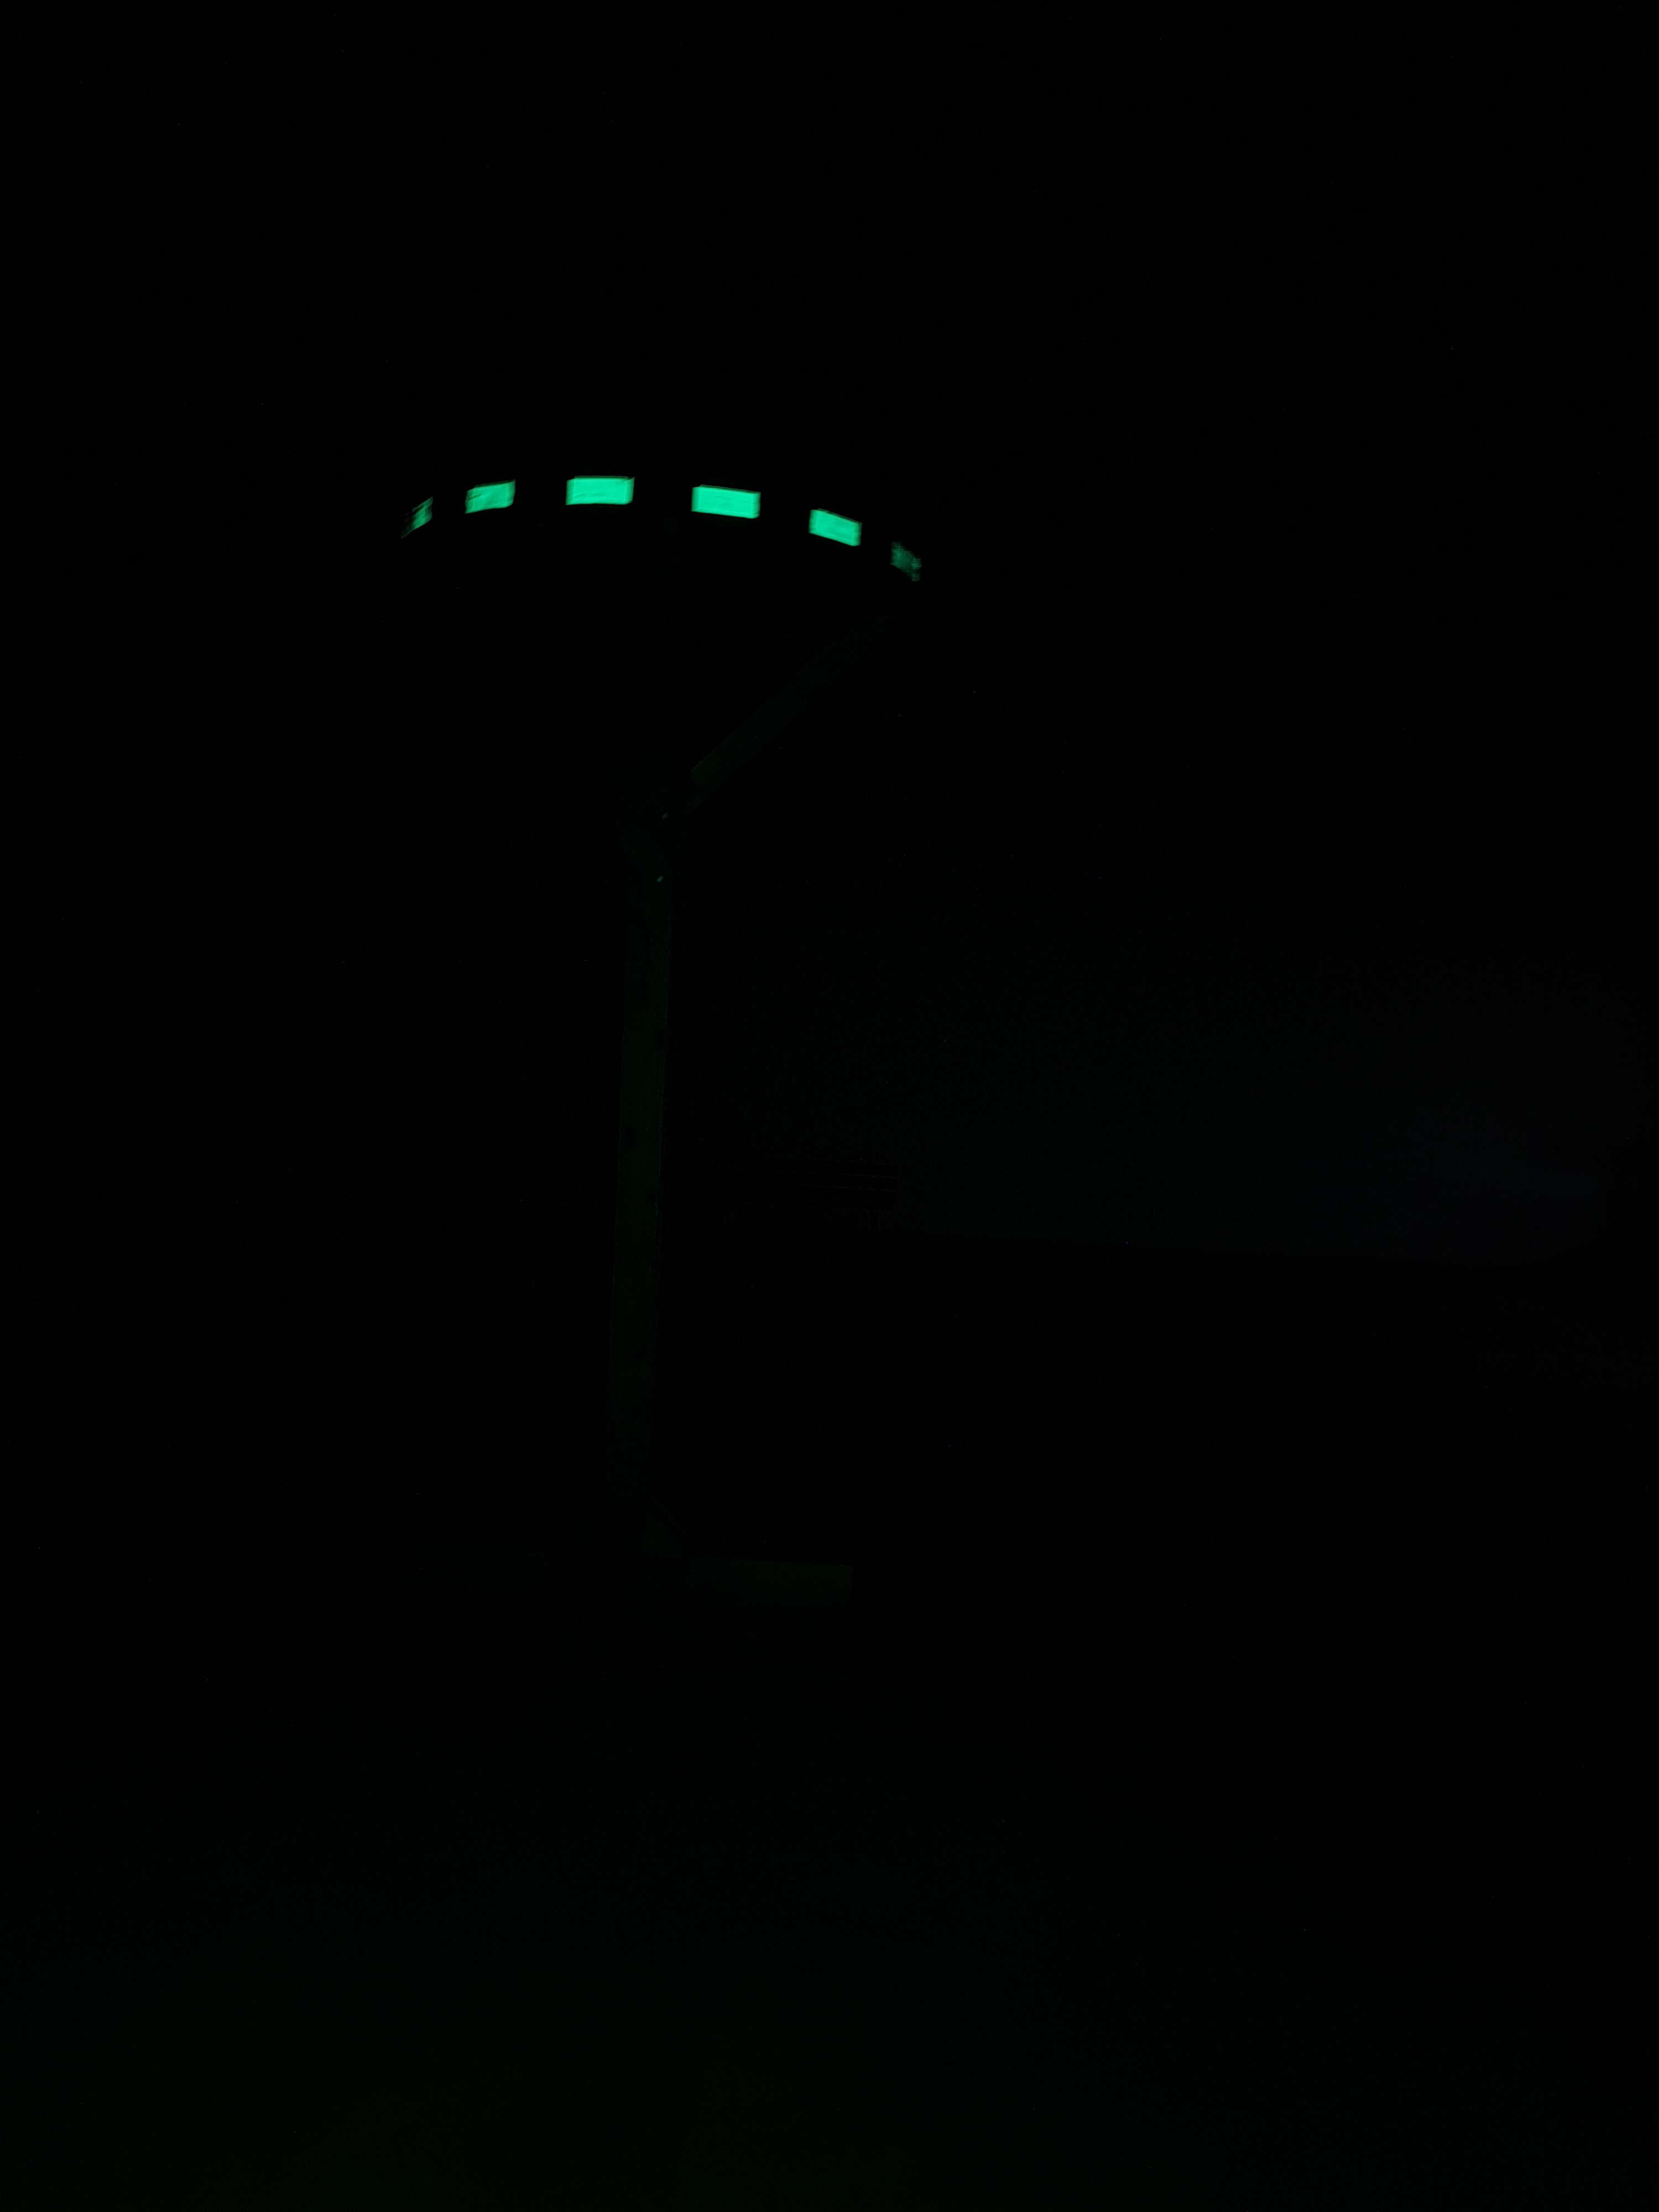hoop: (397, 462, 932, 592)
